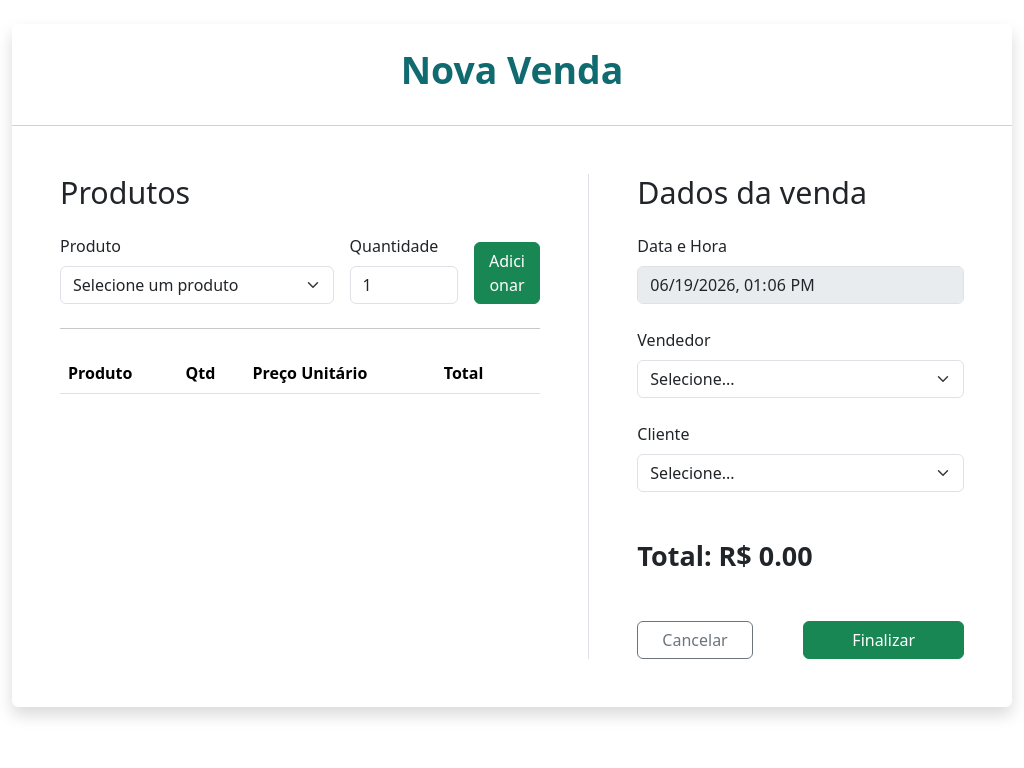
Scenario: FormularioVenda › deve adicionar produto
Select "Notebook" in the dropdown below "Quantidade" at (197, 285), box [60,266,334,304]
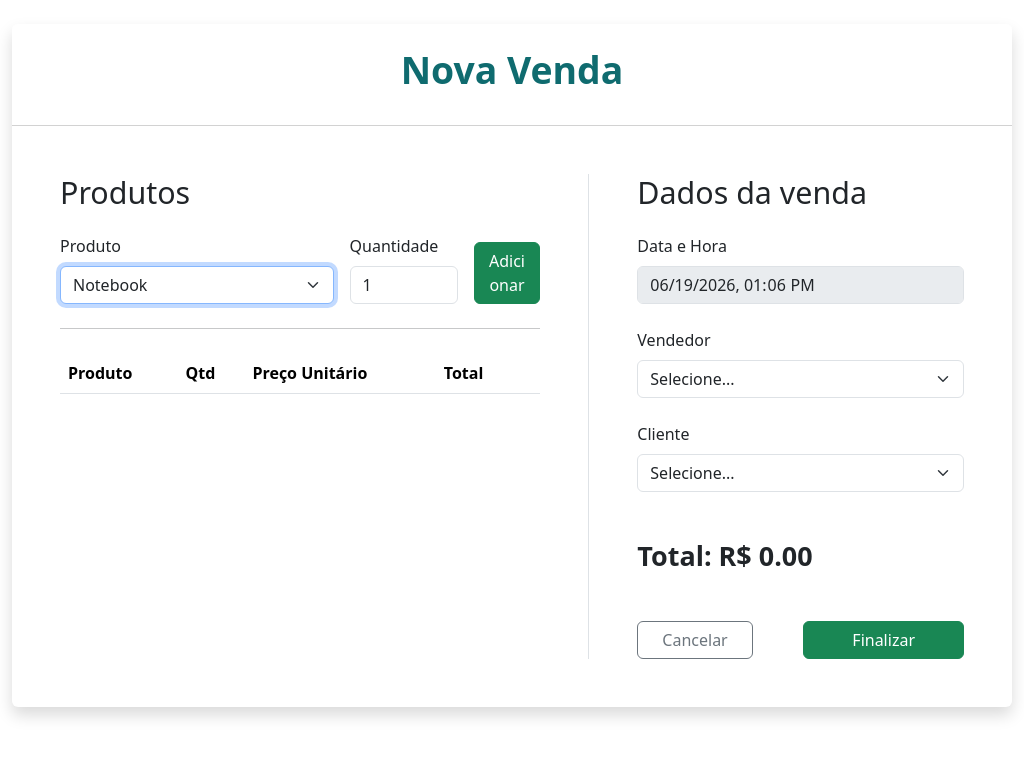
Click the button "Adicionar" at (507, 273), box [474,242,540,304]
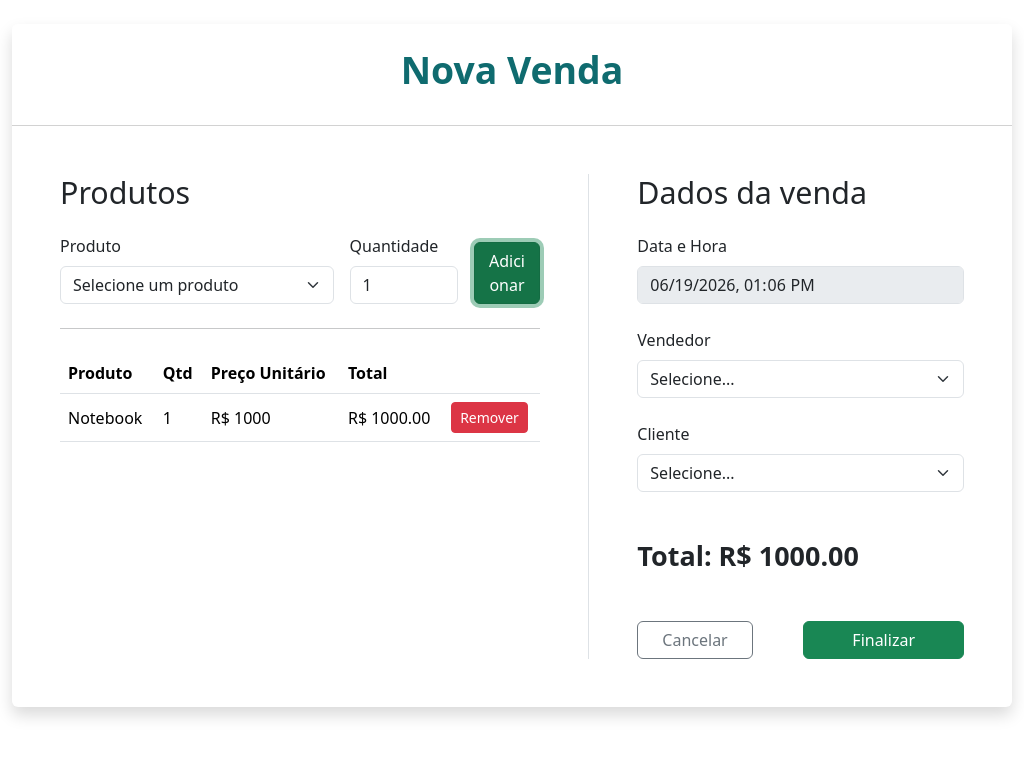
Expected: the text "Notebook" is shown, [60,394,155,442]
